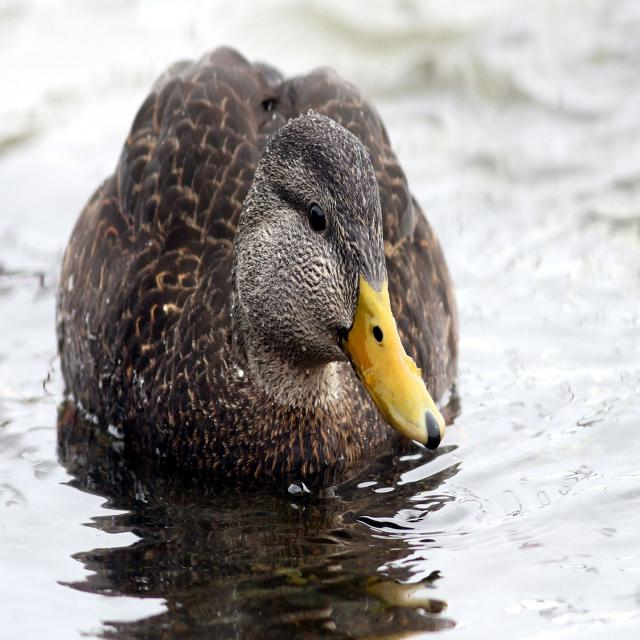Duck: (52, 34, 472, 478)
